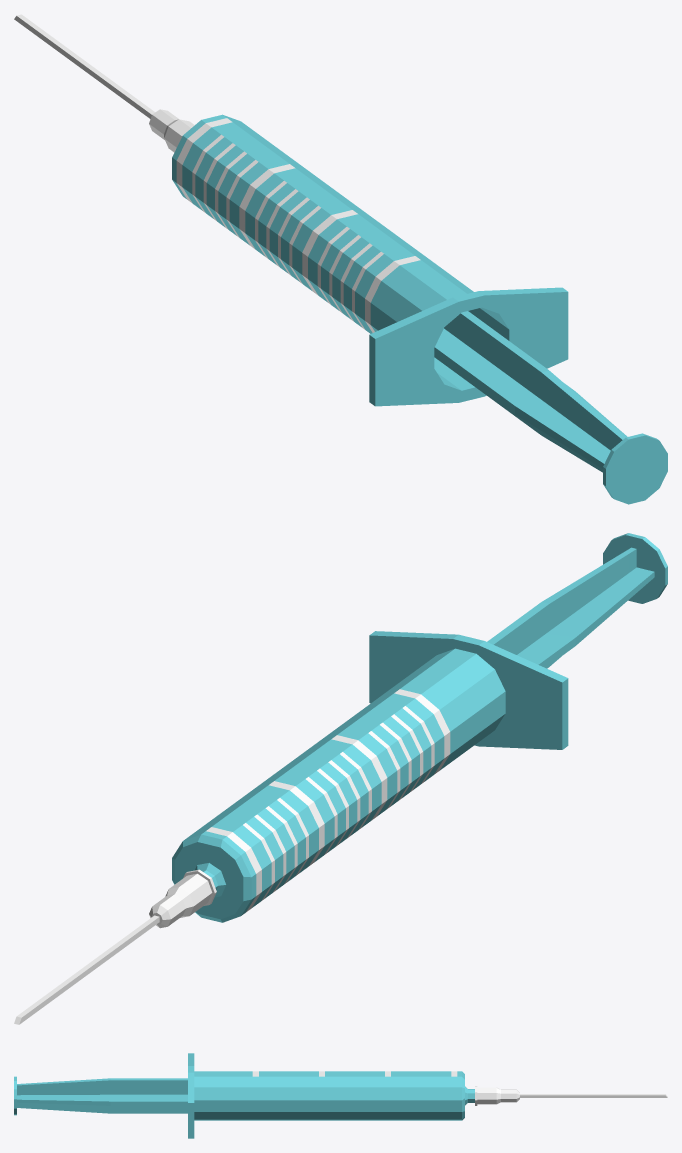
File: SM_Syringe.glb
3 renders of one model, top to bottom at view 1: azimuth 30°, elevation 25°; view 2: azimuth 150°, elevation 25°; view 3: azimuth 270°, elevation 25°, orthographic. The views are drawn at different scales.
Parts seen in each view (by area): view 1: SM_Syringe, SM_Syringe_Lever; view 2: SM_Syringe, SM_Syringe_Lever; view 3: SM_Syringe, SM_Syringe_Lever.
Part boxes in pixels (box(x1,y1,x2,y2)): SM_Syringe: box(14, 14, 568, 406); SM_Syringe_Lever: box(434, 311, 667, 504); SM_Syringe: box(14, 631, 568, 1024); SM_Syringe_Lever: box(487, 533, 667, 668); SM_Syringe: box(188, 1053, 667, 1138); SM_Syringe_Lever: box(14, 1076, 187, 1115).
Bounding box in the file's own units: 0.0596 × 0.0298 × 0.3317.
